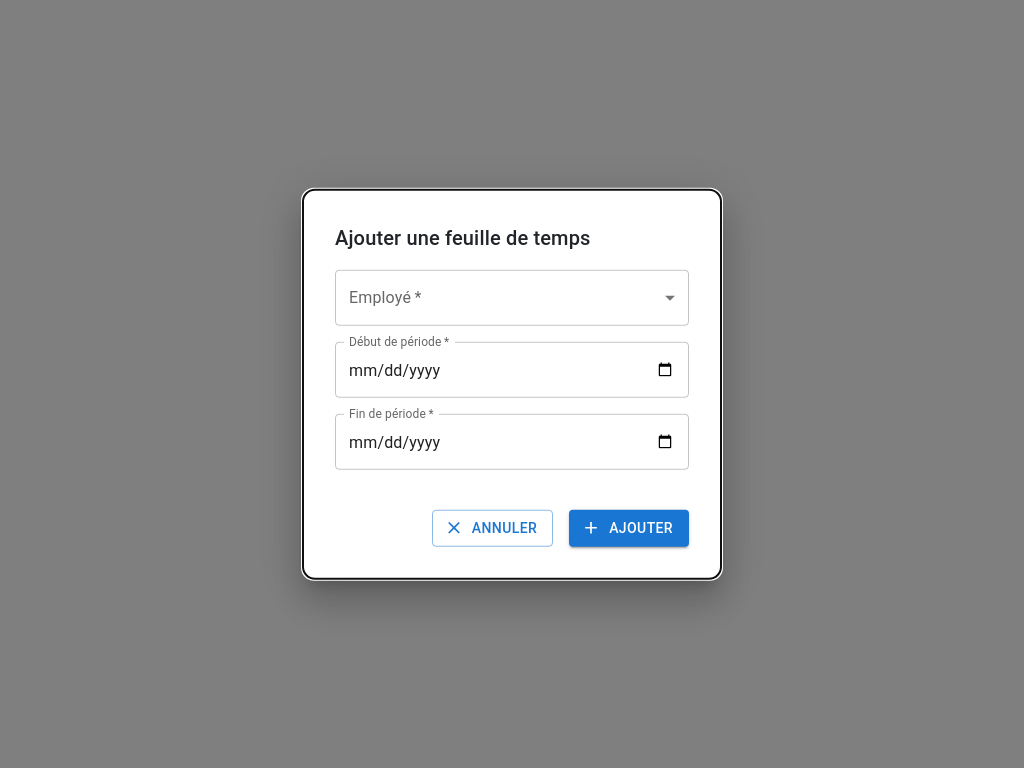
Test case: TimesheetForm › should render employee options from mocked query
Check: the heading "Ajouter une feuille de temps" is shown, box [335,226,591,250]
Step 1. Click the dropdown named "employé" → (512, 298), box [335,270,689,326]
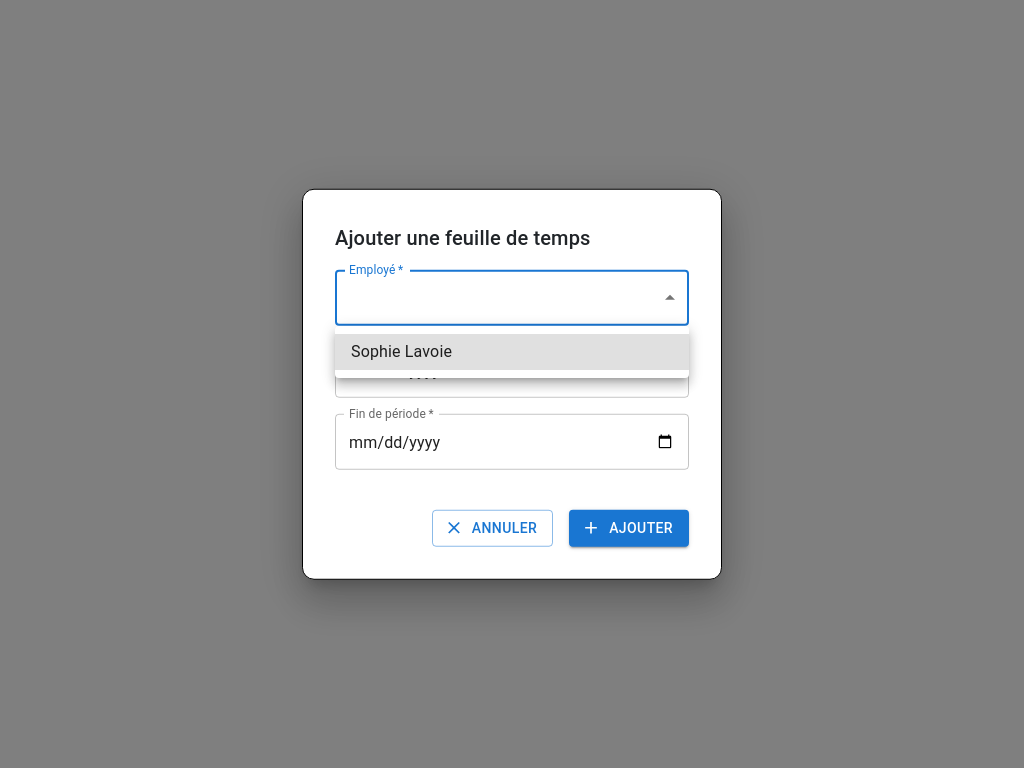
Check: the option "Sophie Lavoie" is shown, box [335,334,689,370]
